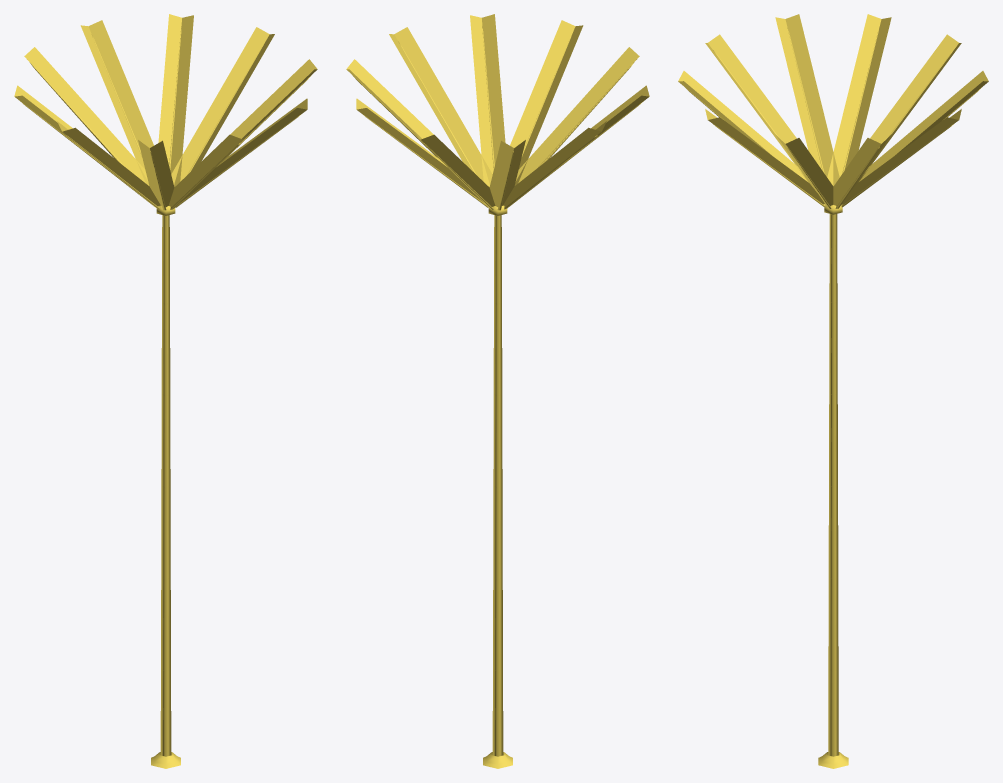
File: crinoid_sea_lily_lo.glb
3 renders of one model, left to right at view 1: azimuth 30°, elevation 25°; view 2: azimuth 150°, elevation 25°; view 3: azimuth 270°, elevation 25°, orthographic.
Parts seen in each view (by area): view 1: crinoid_sea_lily_lo; view 2: crinoid_sea_lily_lo; view 3: crinoid_sea_lily_lo.
Part boxes in pixels (left/top/right/bottom): crinoid_sea_lily_lo: left=14, top=14, right=317, bottom=768; crinoid_sea_lily_lo: left=346, top=14, right=649, bottom=768; crinoid_sea_lily_lo: left=678, top=14, right=988, bottom=768.
Bounding box in the file's own units: 0.2024 × 0.518 × 0.2128.
